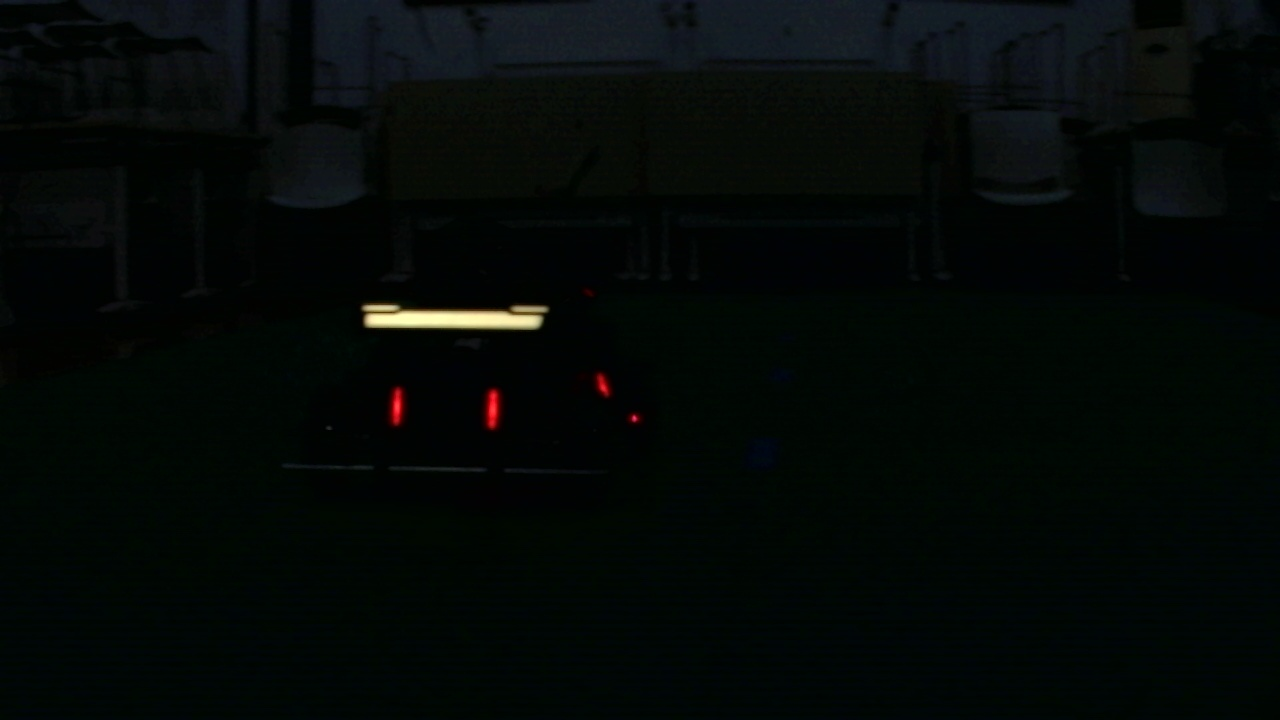lamp: (483, 392, 504, 431), (389, 388, 405, 427)
pair1: (390, 383, 500, 429)
